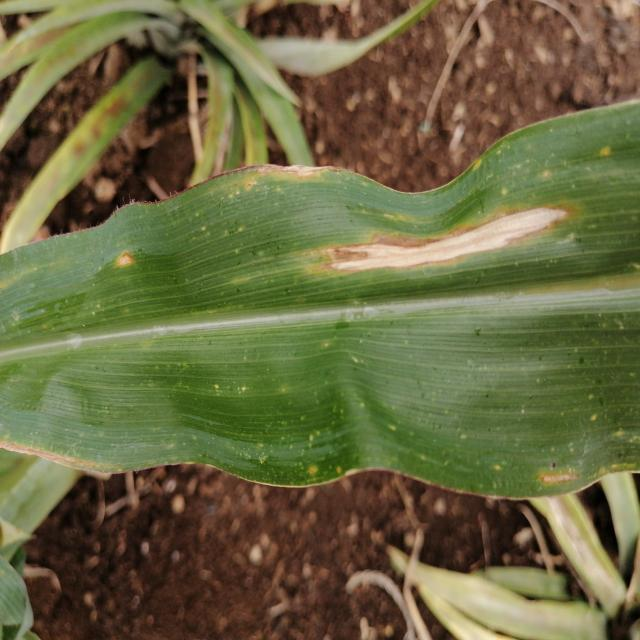Corn_Leaf_Blight: (281, 96, 640, 506)
